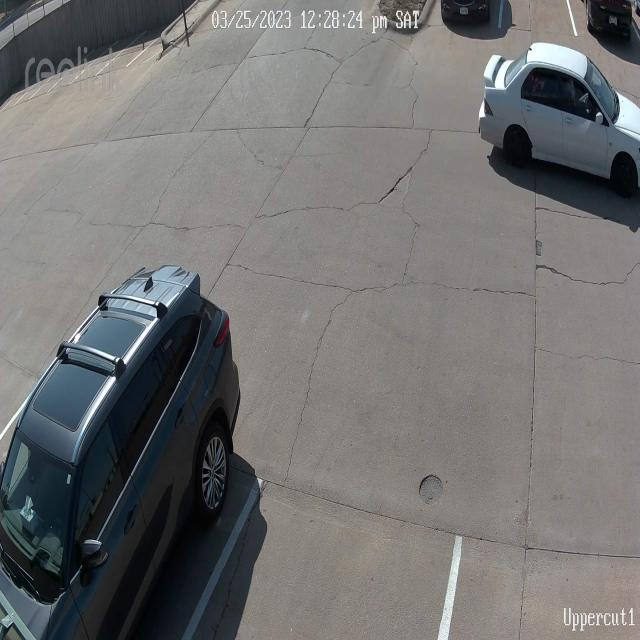Car: (482, 59, 640, 199)
Empty-slot: (192, 431, 475, 636), (444, 444, 640, 640), (0, 273, 84, 442)
Slot-Occupied: (5, 271, 226, 640), (588, 0, 637, 45)
